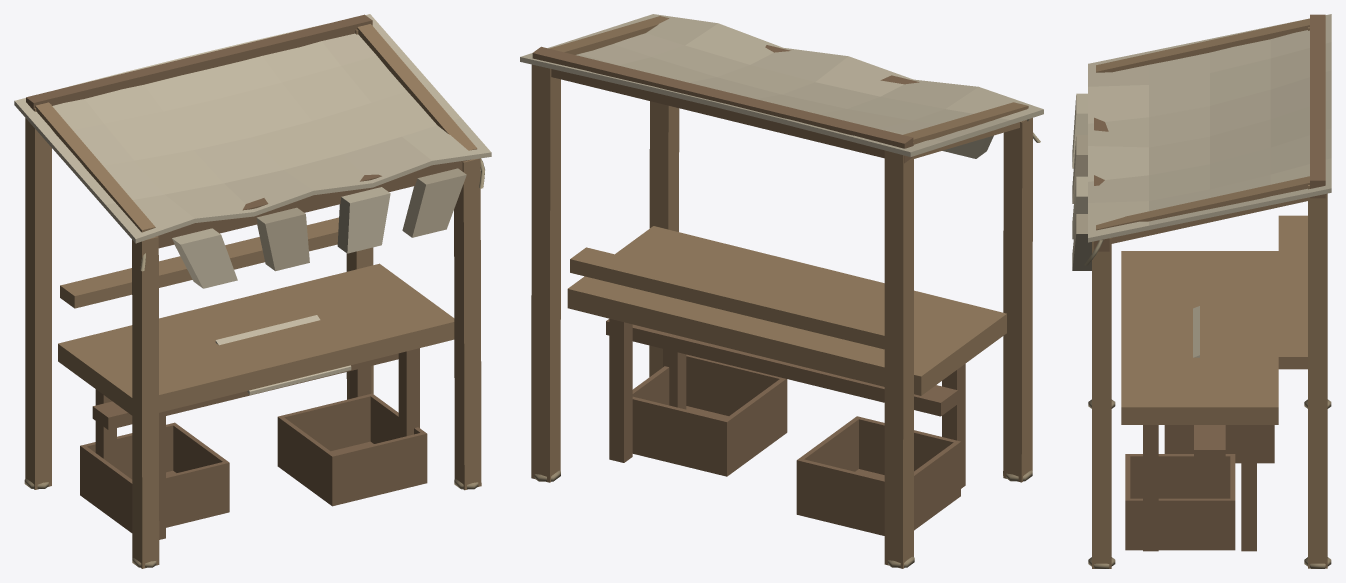
The model's file is market_stall.glb.
3 views of the same model, side by side, from view 1: azimuth 30°, elevation 25°; view 2: azimuth 150°, elevation 25°; view 3: azimuth 270°, elevation 25° (orthographic). The views are drawn at different scales.
Visible parts, largest first — view 1: Stall_Awning, Stall_Goods, Stall_Frame; view 2: Stall_Goods, Stall_Frame, Stall_Awning; view 3: Stall_Goods, Stall_Awning, Stall_Frame.
Part boxes in pixels (bbox=[...]): Stall_Awning: bbox=[14, 14, 491, 288]; Stall_Goods: bbox=[24, 217, 478, 567]; Stall_Frame: bbox=[25, 14, 481, 568]; Stall_Goods: bbox=[534, 226, 1032, 567]; Stall_Frame: bbox=[531, 16, 1032, 568]; Stall_Awning: bbox=[520, 14, 1043, 158]; Stall_Goods: bbox=[1088, 215, 1331, 568]; Stall_Awning: bbox=[1072, 14, 1331, 270]; Stall_Frame: bbox=[1092, 14, 1327, 568].
Size of the model in its own units: 2.1 by 2.18 by 1.32.
